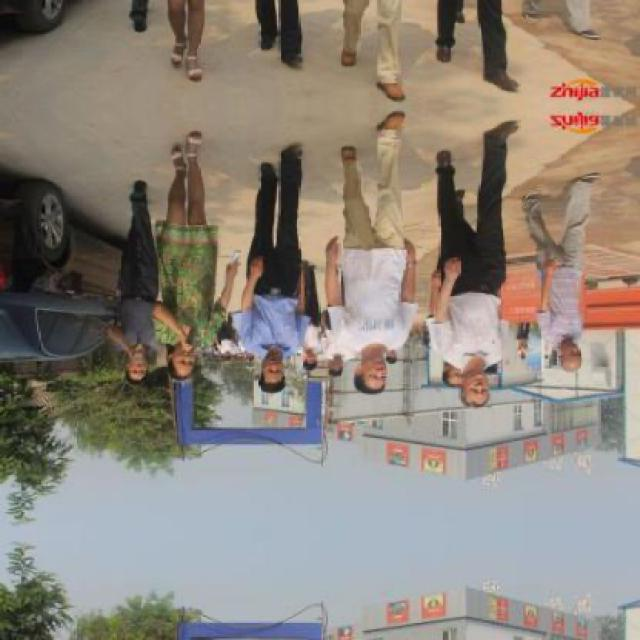sin casco: (439, 344, 548, 425), (230, 335, 313, 408), (514, 326, 599, 383), (339, 335, 398, 406), (174, 320, 228, 390), (130, 332, 168, 398)
